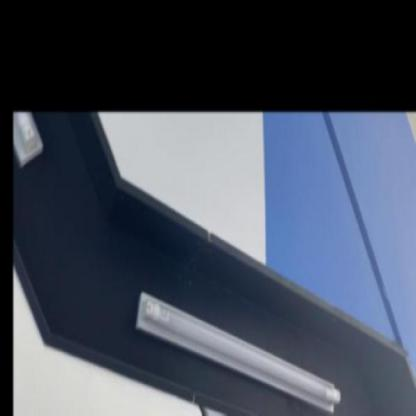light_off: (134, 266, 350, 415)
